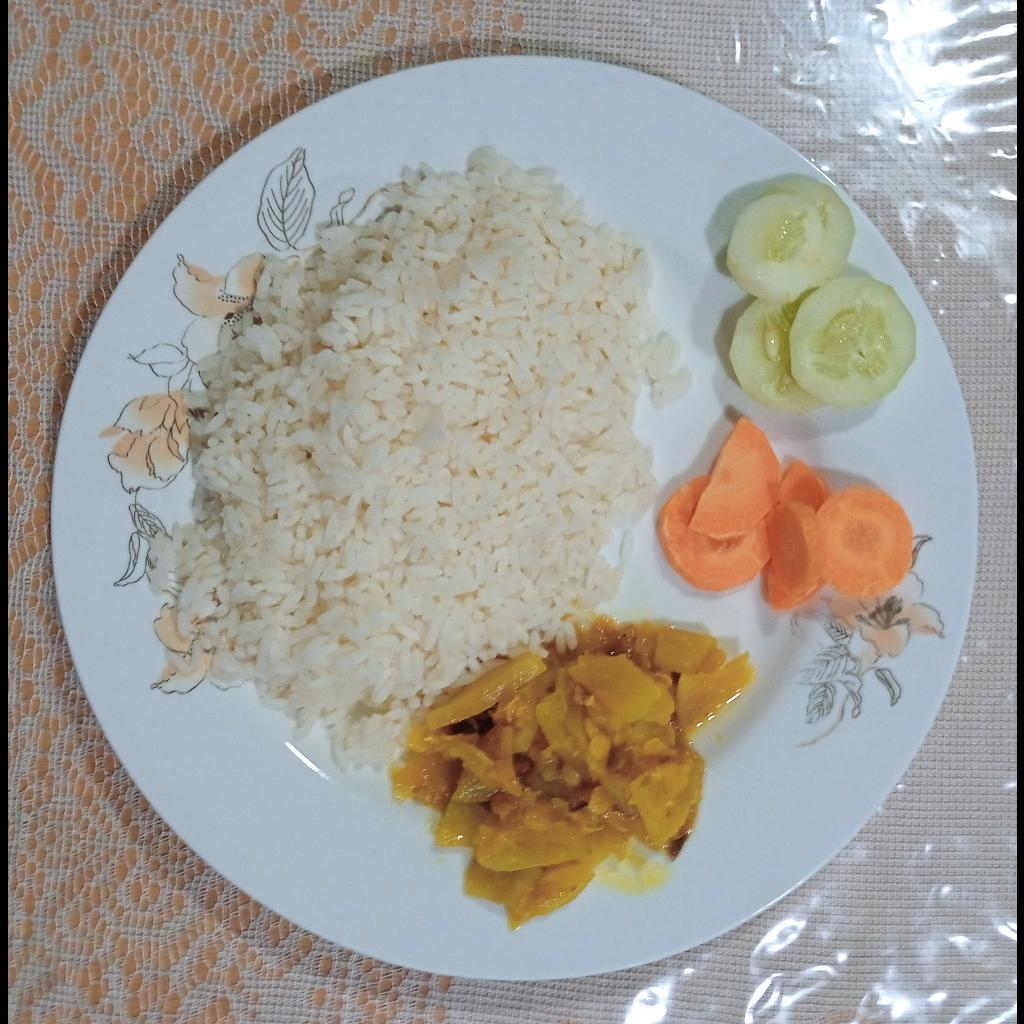carrot: (658, 417, 913, 608)
cucumber: (721, 177, 914, 414)
lau: (391, 618, 755, 930)
rice: (149, 153, 685, 772)
